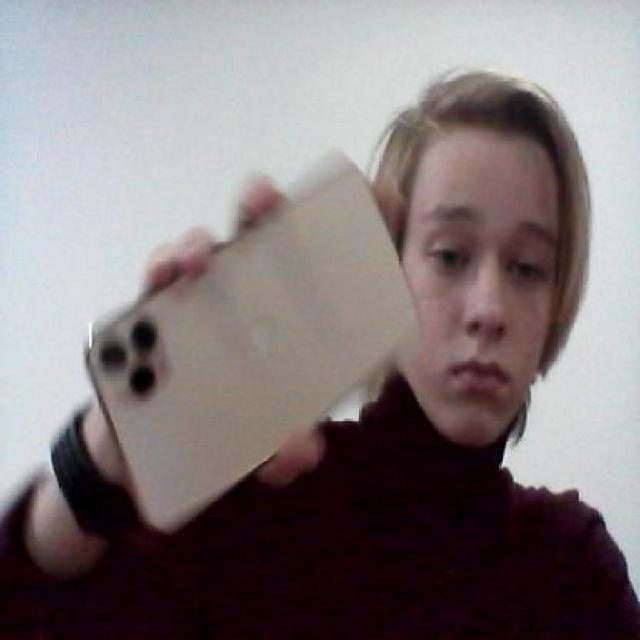mobile: (65, 160, 428, 548)
